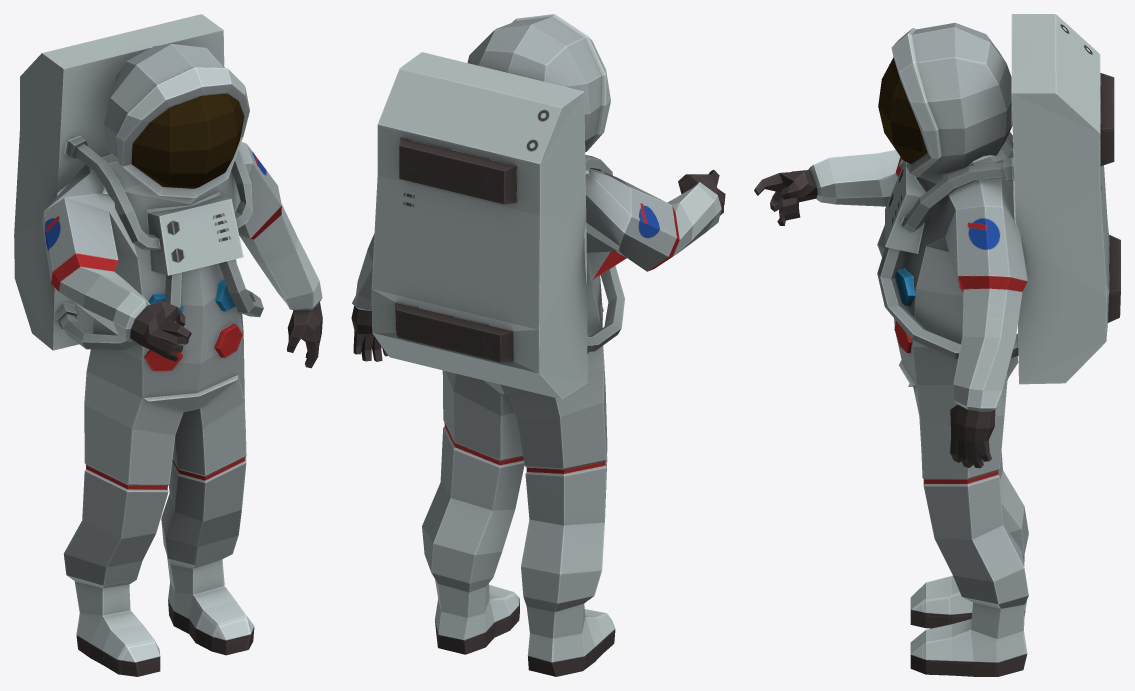
The model's file is astranaunt.fbx.
3 views of the same model, side by side, from view 1: azimuth 30°, elevation 25°; view 2: azimuth 150°, elevation 25°; view 3: azimuth 270°, elevation 25° (orthographic).
Parts seen in each view (by area): view 1: Astronaut.001; view 2: Astronaut.001; view 3: Astronaut.001.
Part boxes in pixels (x1,y1,x2,y2): Astronaut.001: [14, 14, 322, 676]; Astronaut.001: [351, 14, 725, 676]; Astronaut.001: [754, 14, 1120, 676].
Size of the model in its own units: 203 by 402 by 218.
